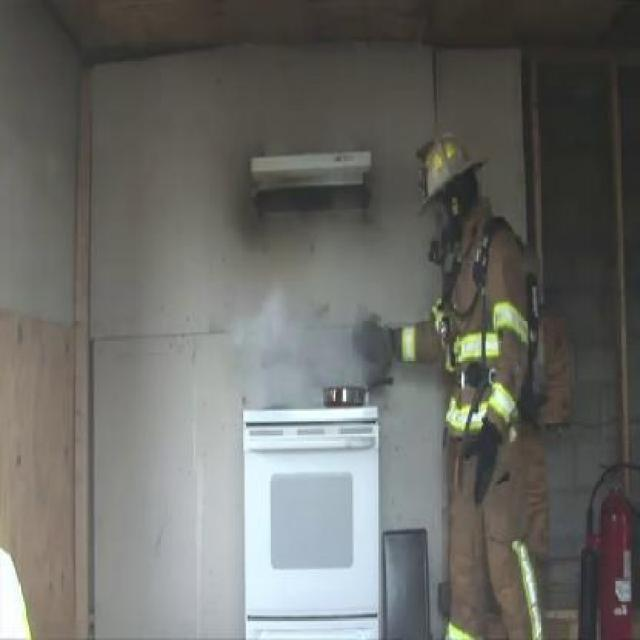smoke: (255, 288, 372, 390)
